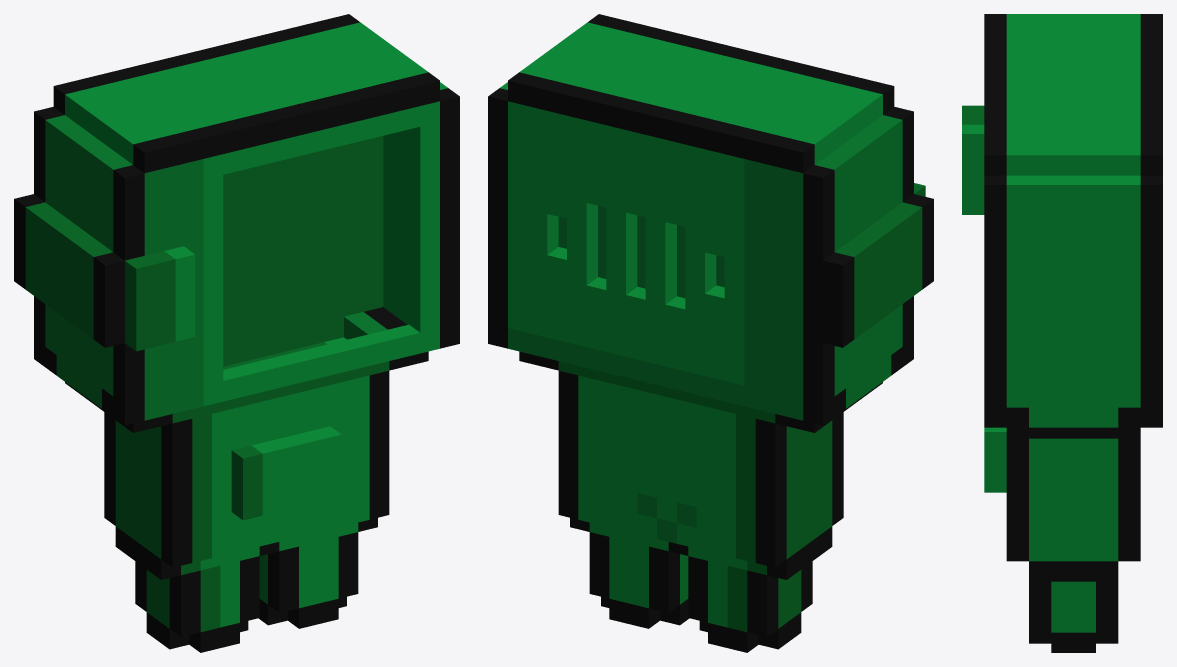
Rendered from body_darkgreen.glb.
3 views of the same model, side by side, from view 1: azimuth 30°, elevation 25°; view 2: azimuth 150°, elevation 25°; view 3: azimuth 270°, elevation 25° (orthographic).
Visible parts, largest first — view 1: bb0 body; view 2: bb0 body; view 3: bb0 body.
Boxes of the visible parts, <box> form: bb0 body: <box>14,14,459,652</box>; bb0 body: <box>488,14,933,652</box>; bb0 body: <box>962,14,1162,652</box>.
Bounding box in the file's own units: 18 × 26 × 9.
